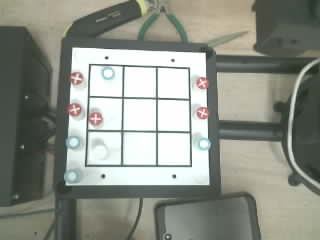blue circle: (64, 169, 80, 183), (101, 66, 114, 79), (66, 136, 80, 148), (198, 138, 210, 150)
board: (64, 48, 210, 185)
cells: (87, 132, 121, 164), (158, 133, 190, 165), (123, 133, 155, 164), (123, 99, 155, 130), (89, 98, 121, 129), (90, 66, 122, 96), (158, 68, 189, 98), (158, 100, 189, 130), (124, 67, 155, 96)
grid: (85, 64, 191, 166)
red cross: (67, 103, 81, 116), (70, 72, 83, 85), (89, 112, 102, 125), (196, 107, 209, 120), (196, 77, 208, 88)
